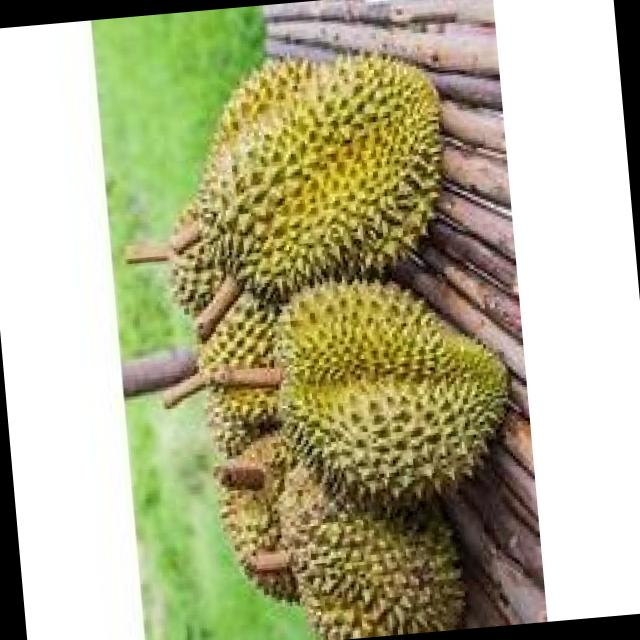fruit: (197, 245, 536, 640), (135, 14, 489, 328)
